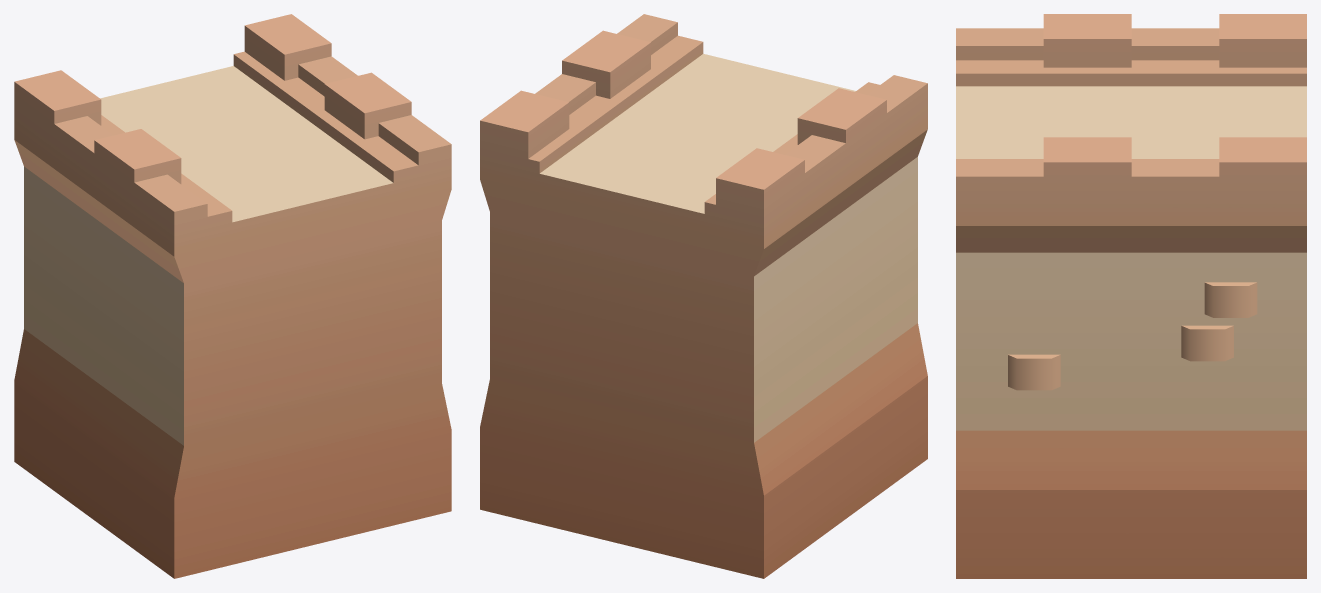
File: wall.glb
3 views of the same model, side by side, from view 1: azimuth 30°, elevation 25°; view 2: azimuth 150°, elevation 25°; view 3: azimuth 270°, elevation 25° (orthographic). The views are drawn at different scales.
Parts seen in each view (by area): view 1: wall; view 2: wall; view 3: wall.
Part boxes in pixels (x1=…): wall: x1=14, y1=14, x2=451, y2=578; wall: x1=480, y1=14, x2=927, y2=578; wall: x1=956, y1=14, x2=1306, y2=578.
Size of the model in its own units: 1 by 1.31 by 1.
1 material, 1 textured.
